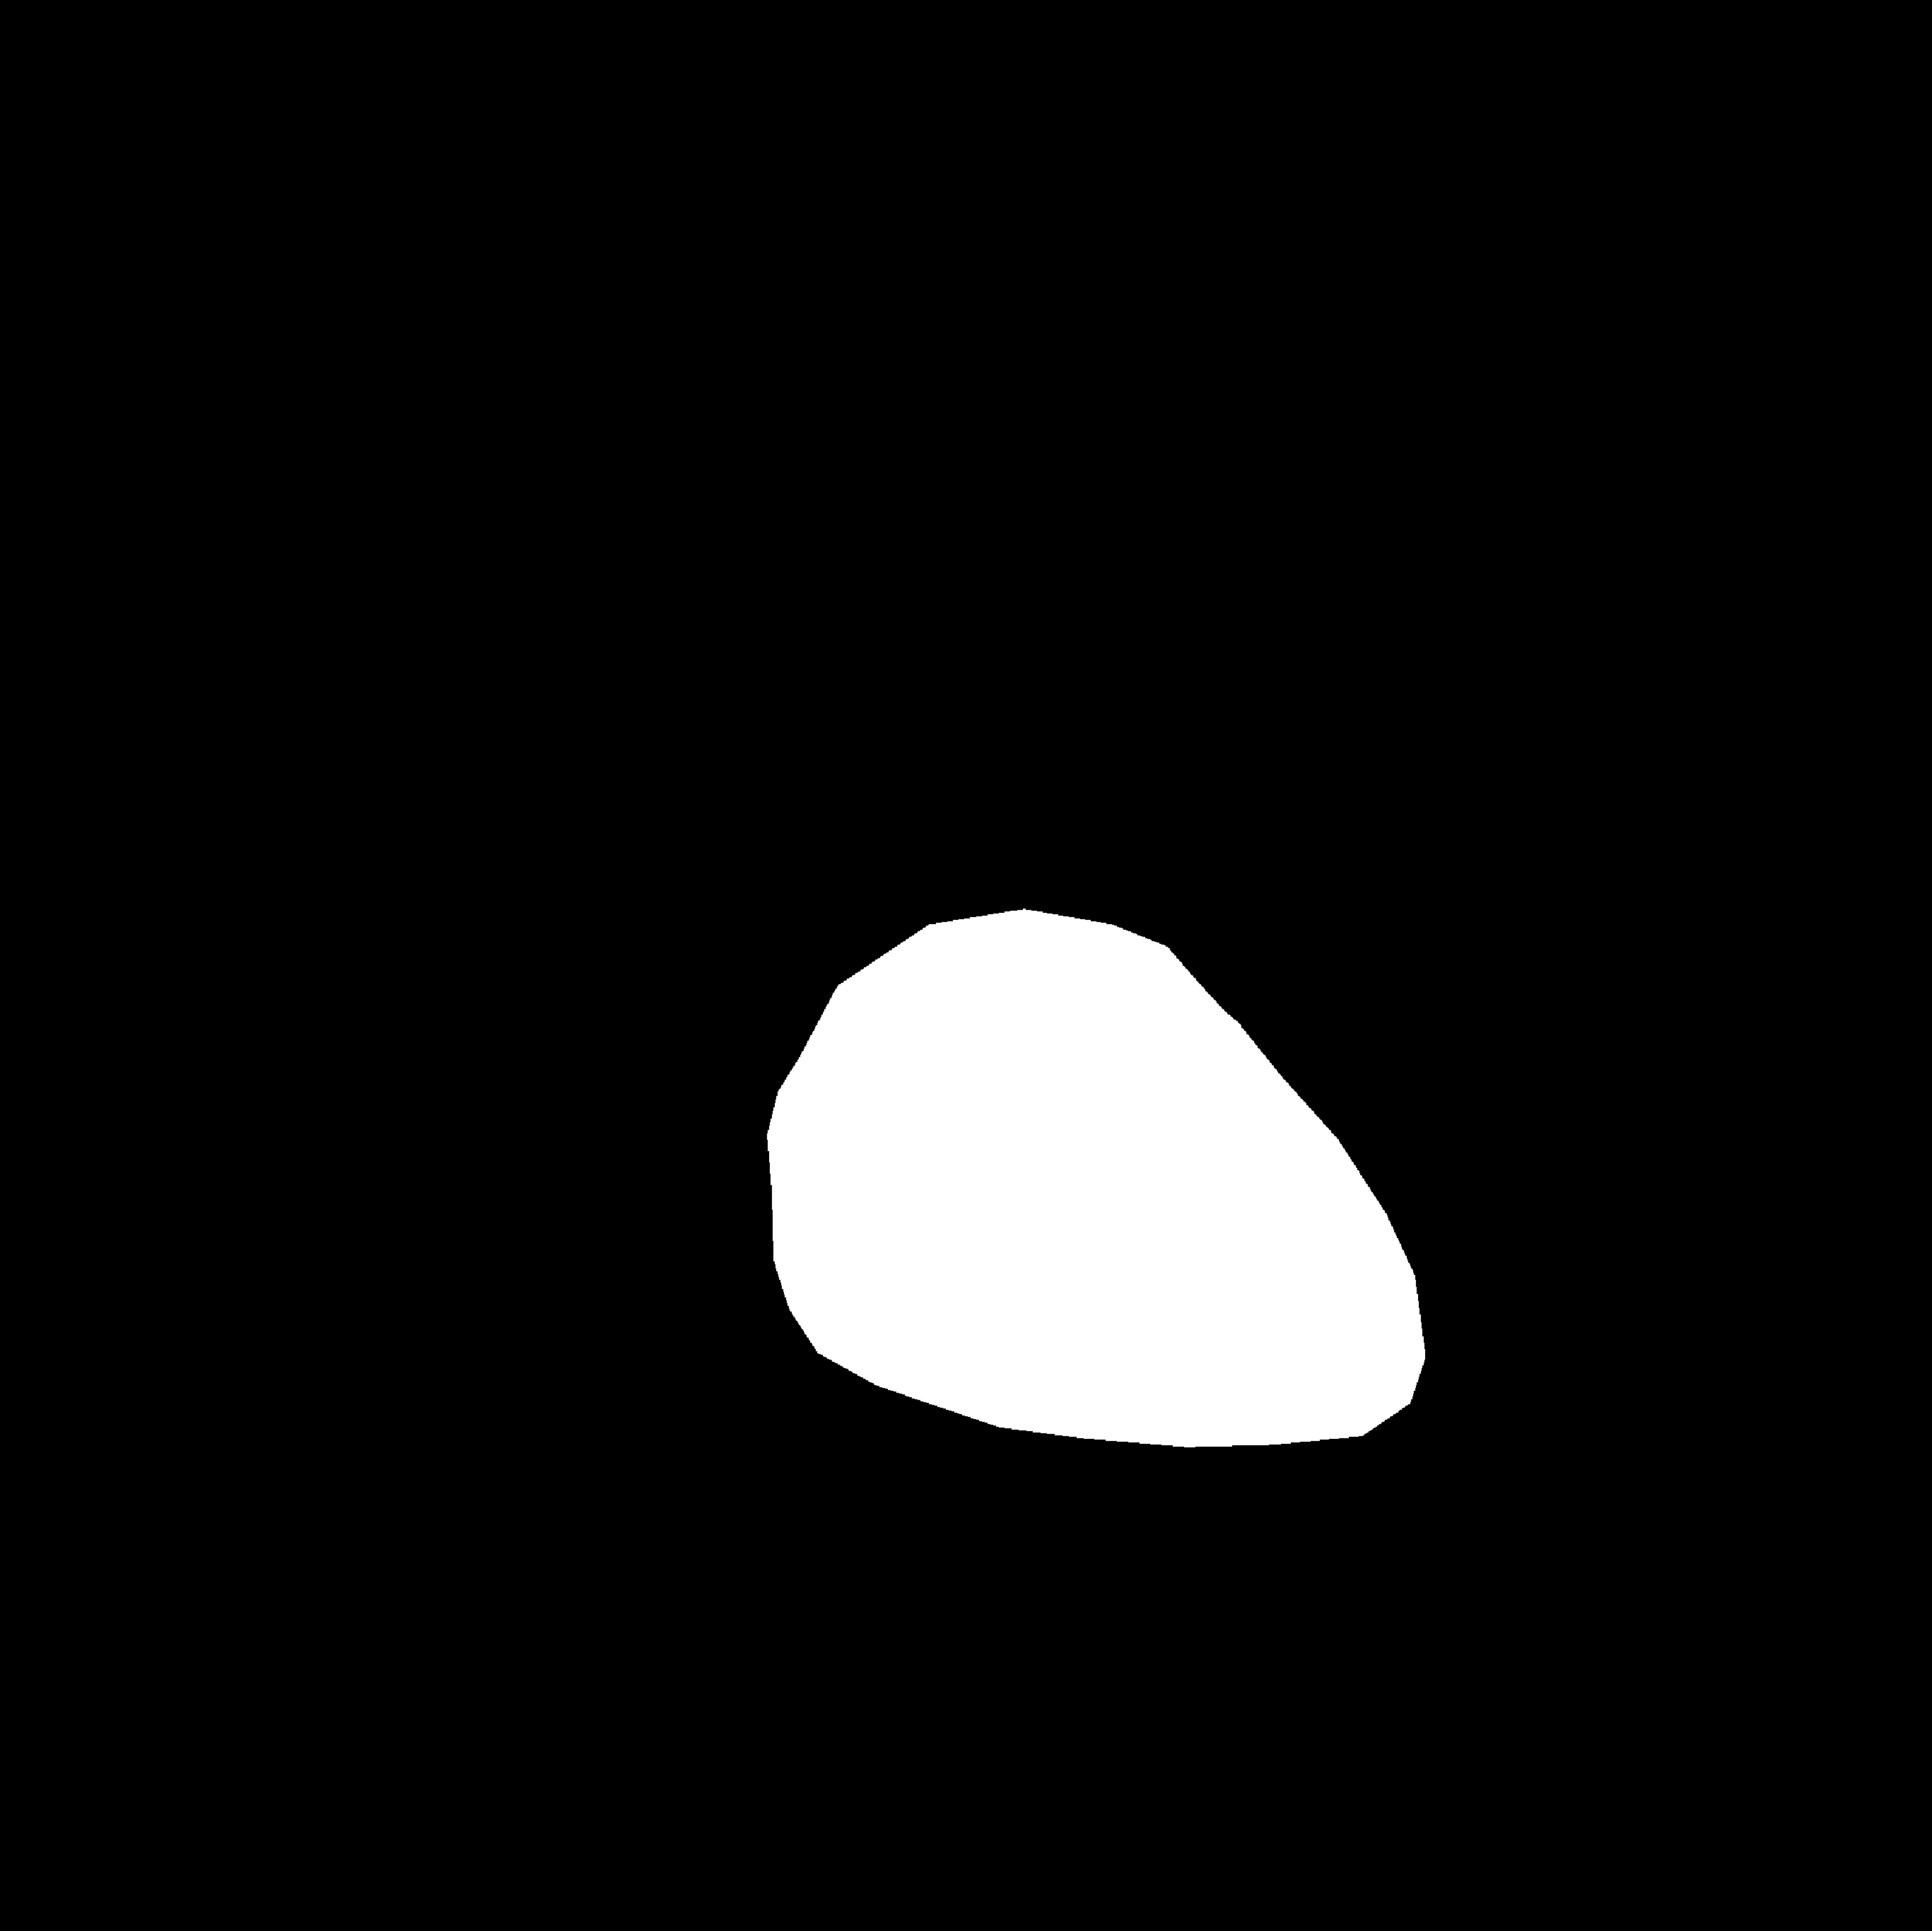heart: (767, 978, 1430, 1448)
left_lung: (168, 320, 886, 1623)
right_lung: (1046, 304, 1725, 1609)
